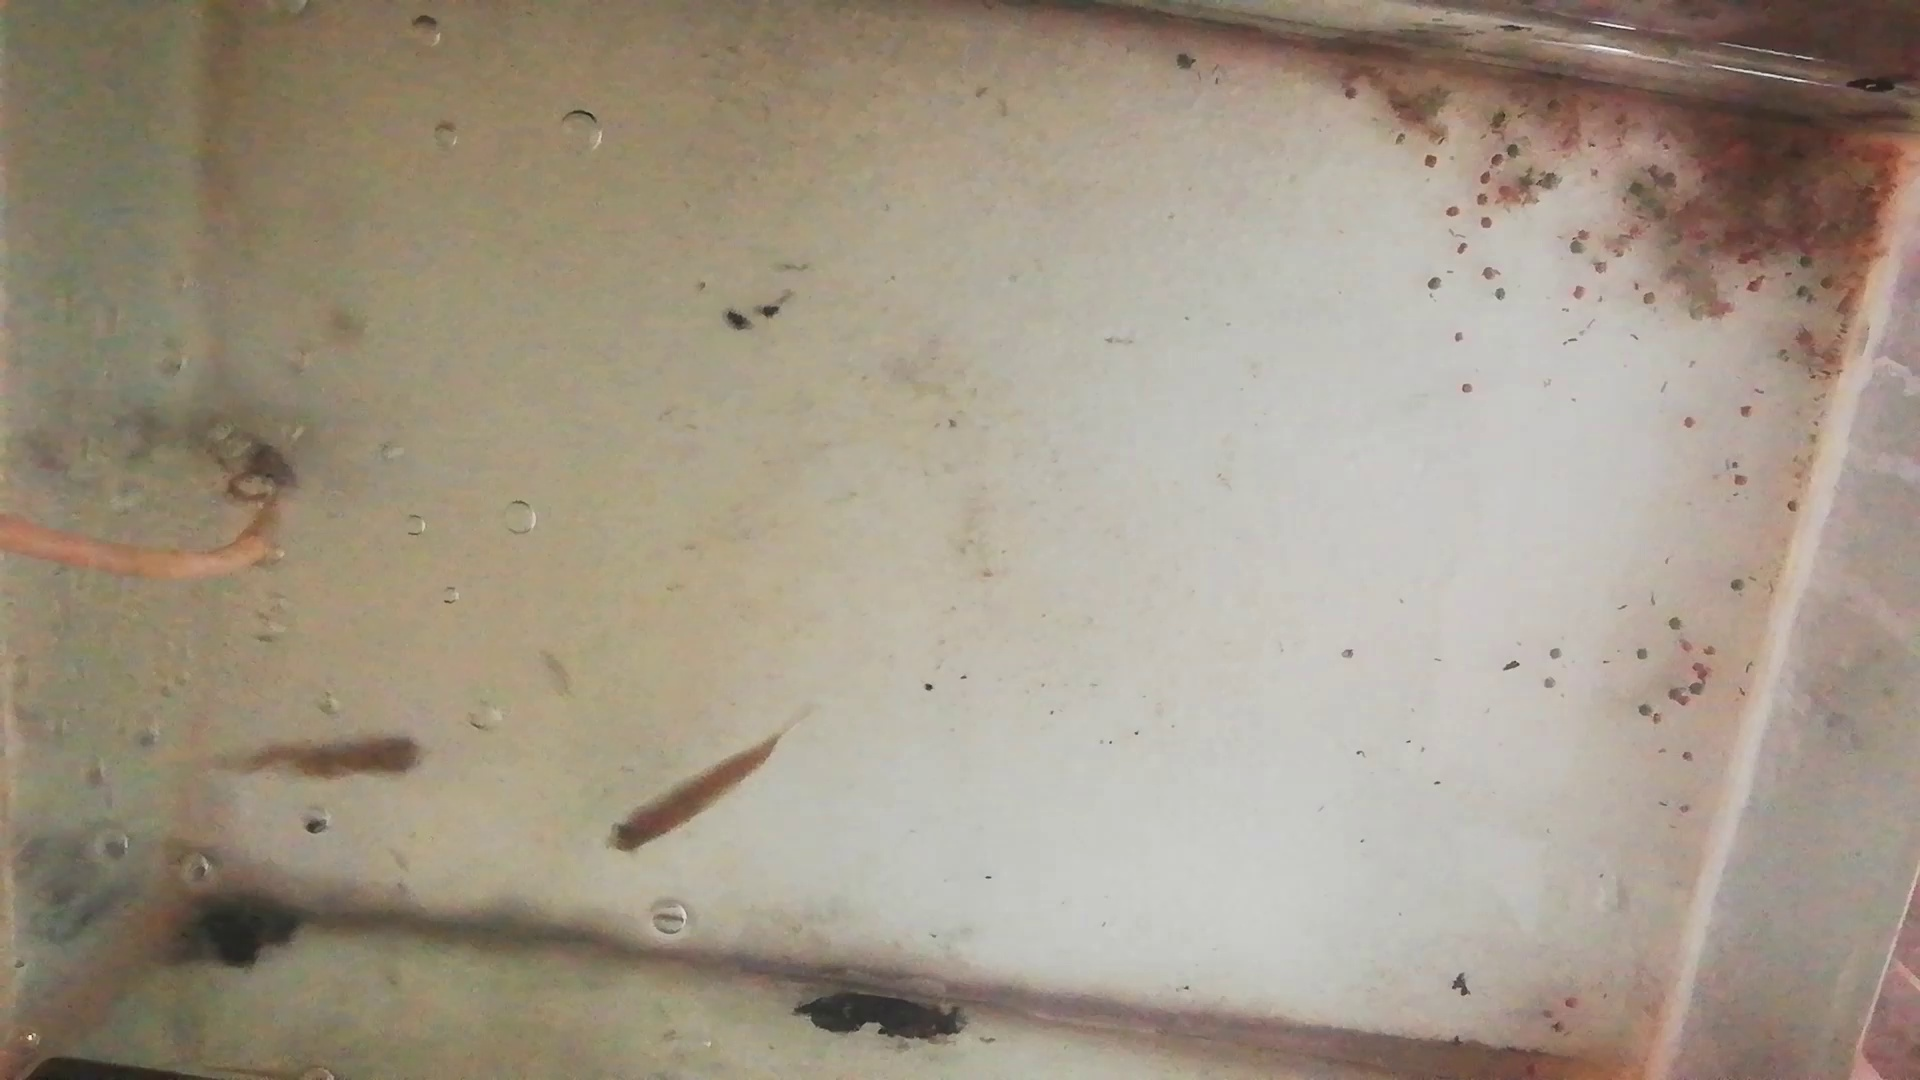fish: (596, 732, 775, 851), (208, 735, 430, 783)
